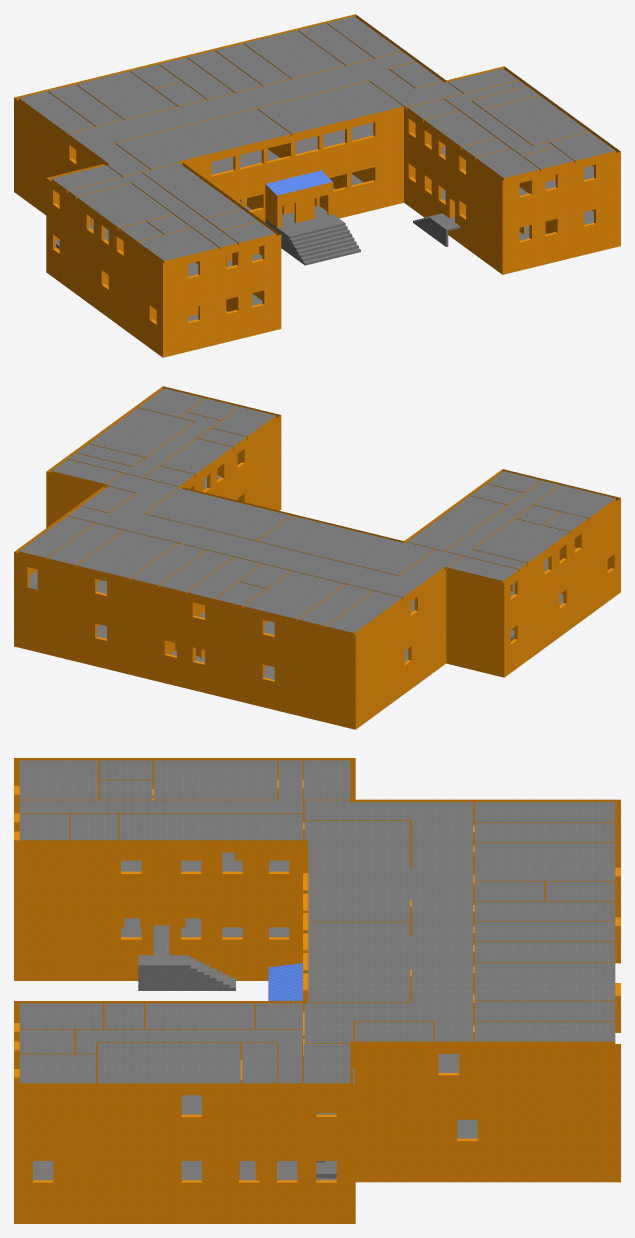
Rendered from УТМ.FBX.
The picture shows the model from 3 angles, top to bottom: view 1: azimuth 30°, elevation 25°; view 2: azimuth 150°, elevation 25°; view 3: azimuth 270°, elevation 25°; orthographic projection. The views are drawn at different scales.
Visible parts, largest first — view 1: exterior, L2R50, L2R55, L2R27, L2R66, L2R02, L2R57, L2R54, L2R00, L2R62, L2R48, L2R08 (+50 smaller); view 2: exterior, L2R55, L2R50, L2R66, L2R27, L2R57, L2R01, L2R02, L2R37, L2R35, L2R00, L2R54 (+47 smaller); view 3: exterior, L2R50, L2R55, L2R66, L2R27, L2R06, L2R02, L2R42, L2R01, L2R08, L2R48, L2R00 (+55 smaller).
Part boxes in pixels (x1,y1,x2,y2): exterior: (14, 14, 620, 357); L2R50: (484, 96, 589, 145); L2R55: (243, 30, 344, 78); L2R27: (257, 81, 386, 148); L2R66: (143, 108, 274, 168); L2R02: (137, 228, 219, 277); L2R57: (424, 111, 496, 158); L2R54: (76, 183, 155, 241); L2R00: (19, 91, 95, 136); L2R62: (298, 23, 373, 65); L2R48: (215, 43, 290, 85); L2R08: (48, 84, 123, 126); exterior: (14, 386, 620, 729); L2R55: (76, 530, 177, 594); L2R50: (89, 408, 193, 458); L2R66: (257, 528, 388, 568); L2R27: (145, 500, 274, 541); L2R57: (160, 438, 232, 491); L2R01: (19, 516, 94, 588); L2R02: (534, 485, 615, 521); L2R37: (244, 588, 320, 635); L2R35: (187, 557, 262, 618); L2R00: (326, 591, 402, 635); L2R54: (473, 531, 552, 591); exterior: (14, 758, 620, 1223); L2R50: (97, 1043, 241, 1115); L2R55: (473, 962, 618, 1025); L2R66: (357, 840, 410, 936); L2R27: (357, 922, 410, 1002); L2R06: (201, 813, 302, 872); L2R02: (16, 760, 98, 813); L2R42: (119, 813, 201, 872); L2R01: (474, 1022, 615, 1043); L2R08: (473, 822, 615, 874); L2R48: (473, 942, 615, 994); L2R00: (473, 802, 615, 845).
Bounding box in the file's own units: 49.21 × 38.56 × 9.7.
Materials: 4 (4 with a texture image).
